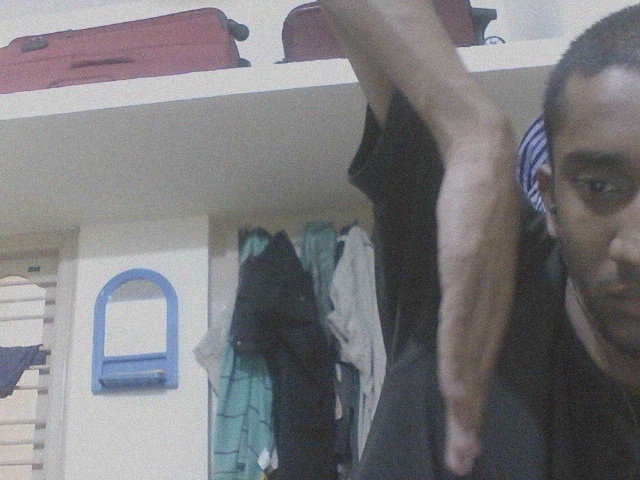hand: (430, 128, 525, 480)
